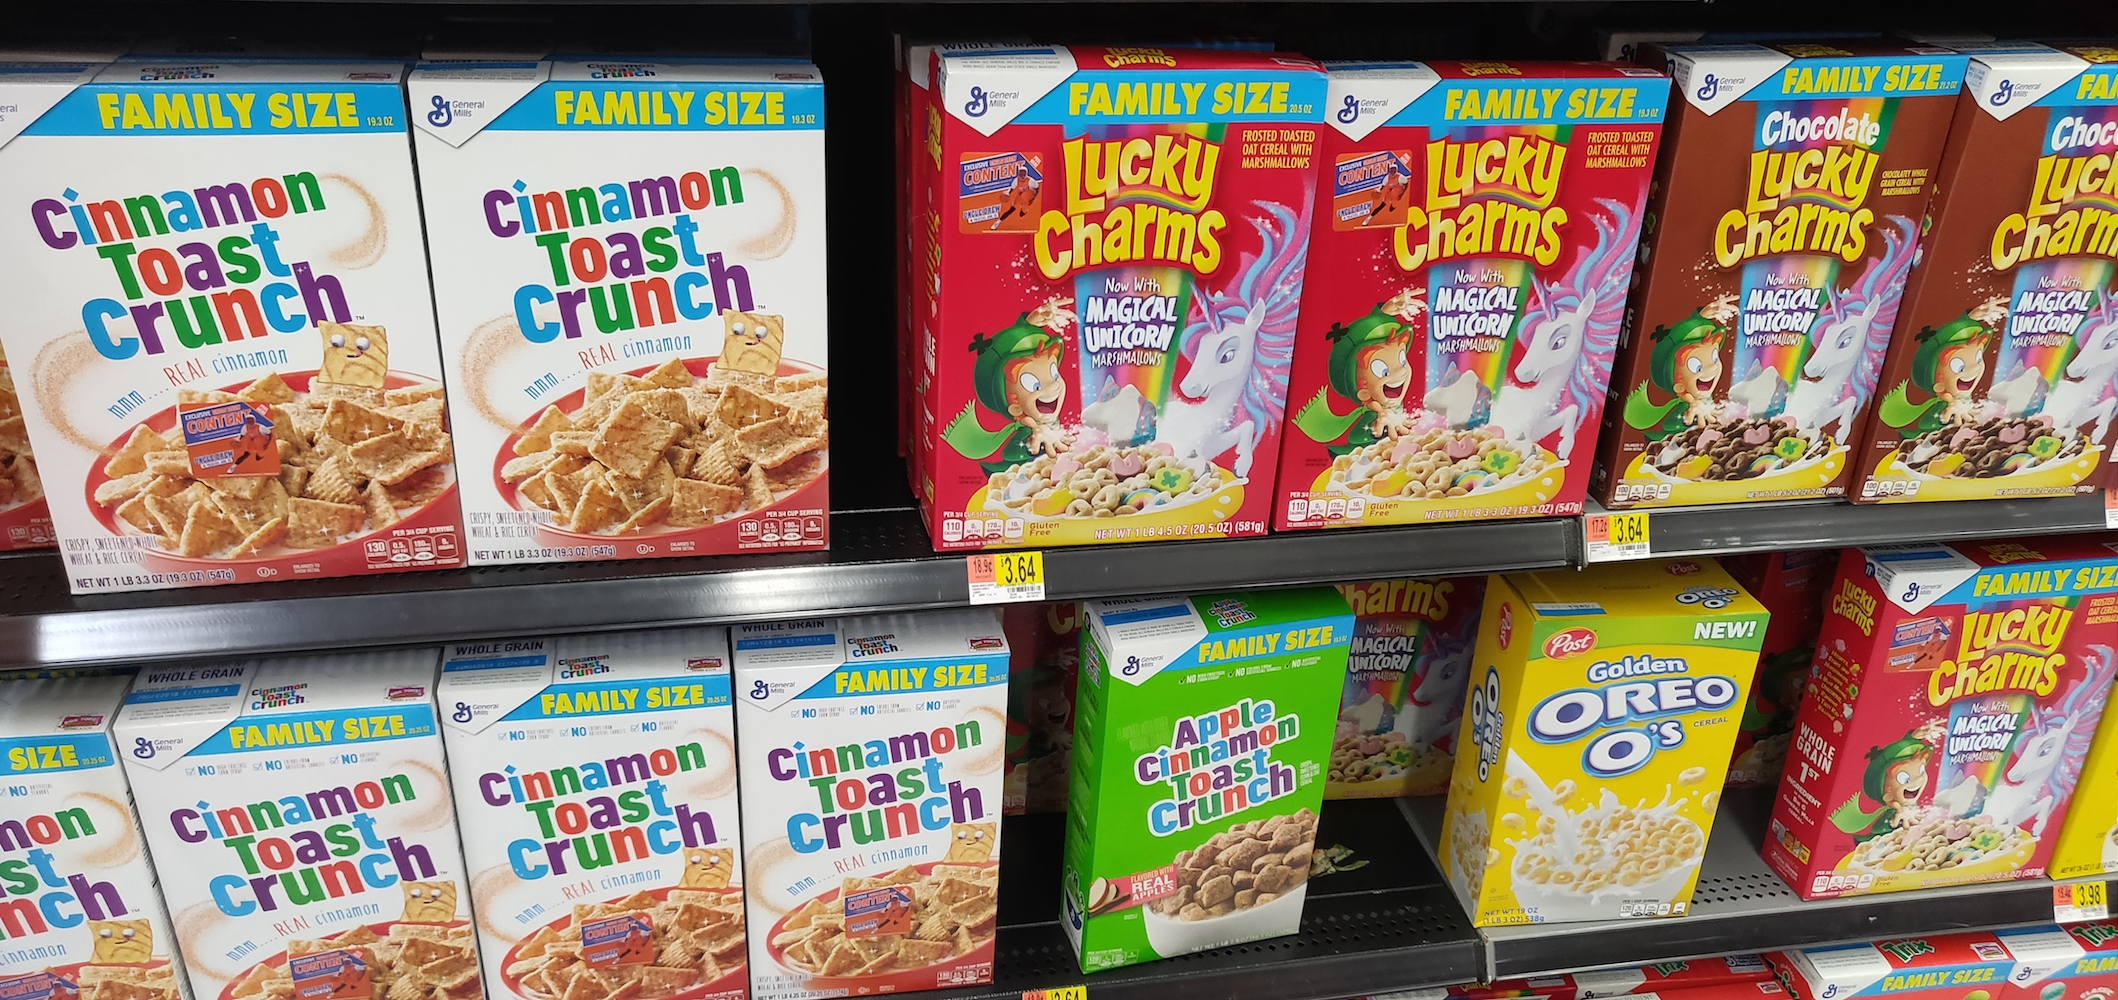Oreo Golden-568301011: (1462, 577, 1751, 918)
